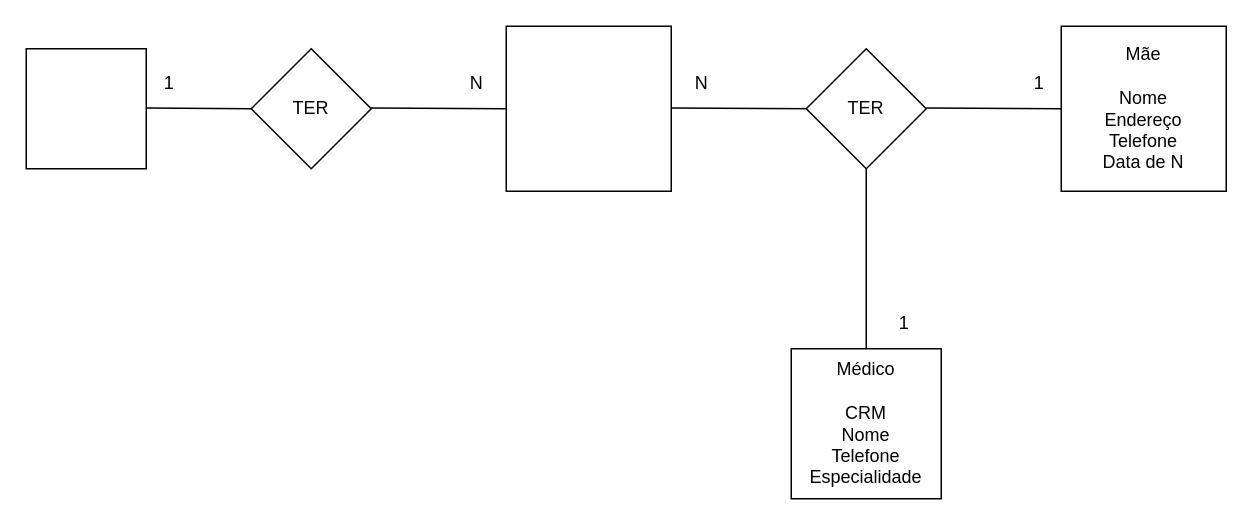
Image size: 1253x525. Some labels were removed from this diagram. The shapes that lost their labels are listed below. From the top down, each one's box as (x1, y1, x2, y2) in pixels, then its label:
(25, 47, 146, 169): Berçario
(505, 25, 671, 191): Bebê Nome Data de N Mãe Peso Médico
